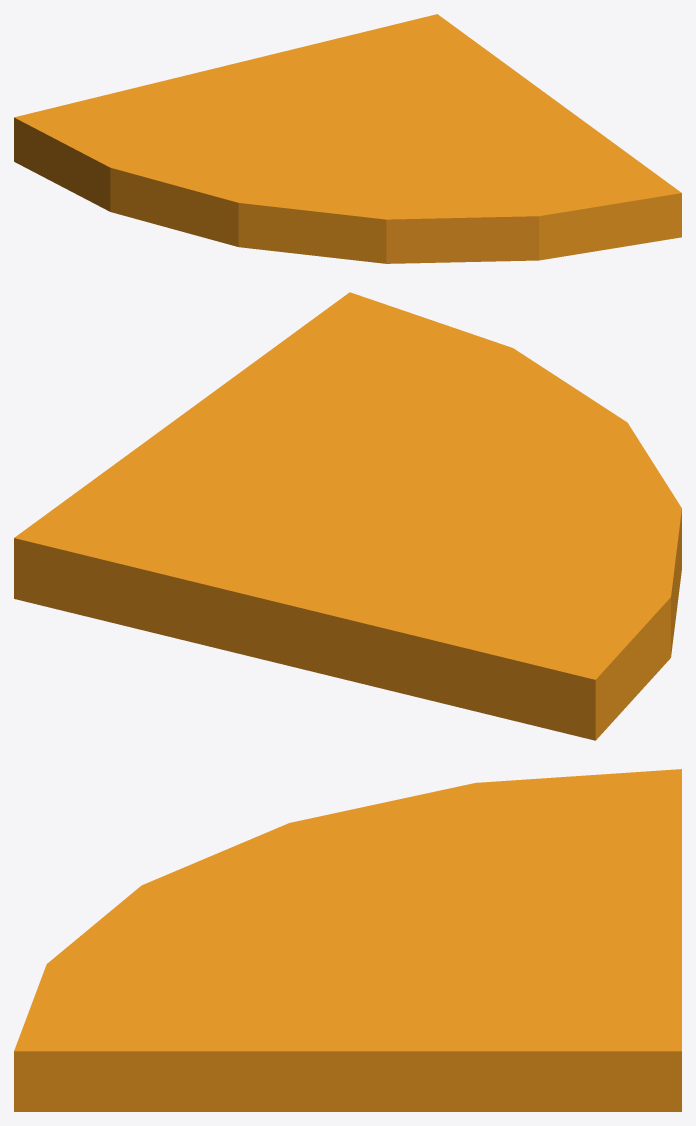
File: SM_Buildings_FloorCurved_1x1_01.fbx
3 renders of one model, top to bottom at view 1: azimuth 30°, elevation 25°; view 2: azimuth 150°, elevation 25°; view 3: azimuth 270°, elevation 25°, orthographic. The views are drawn at different scales.
Visible parts, largest first — view 1: SM_Buildings_FloorCurved_1x1_01; view 2: SM_Buildings_FloorCurved_1x1_01; view 3: SM_Buildings_FloorCurved_1x1_01.
Part boxes in pixels (box(x1,y1,x2,y2)): SM_Buildings_FloorCurved_1x1_01: box(14, 14, 681, 263); SM_Buildings_FloorCurved_1x1_01: box(14, 292, 681, 740); SM_Buildings_FloorCurved_1x1_01: box(14, 769, 681, 1111).
Size of the model in its own units: 100 by 10 by 100.
